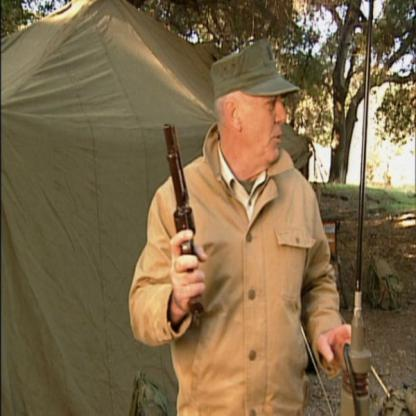Guns: (159, 121, 209, 321)
